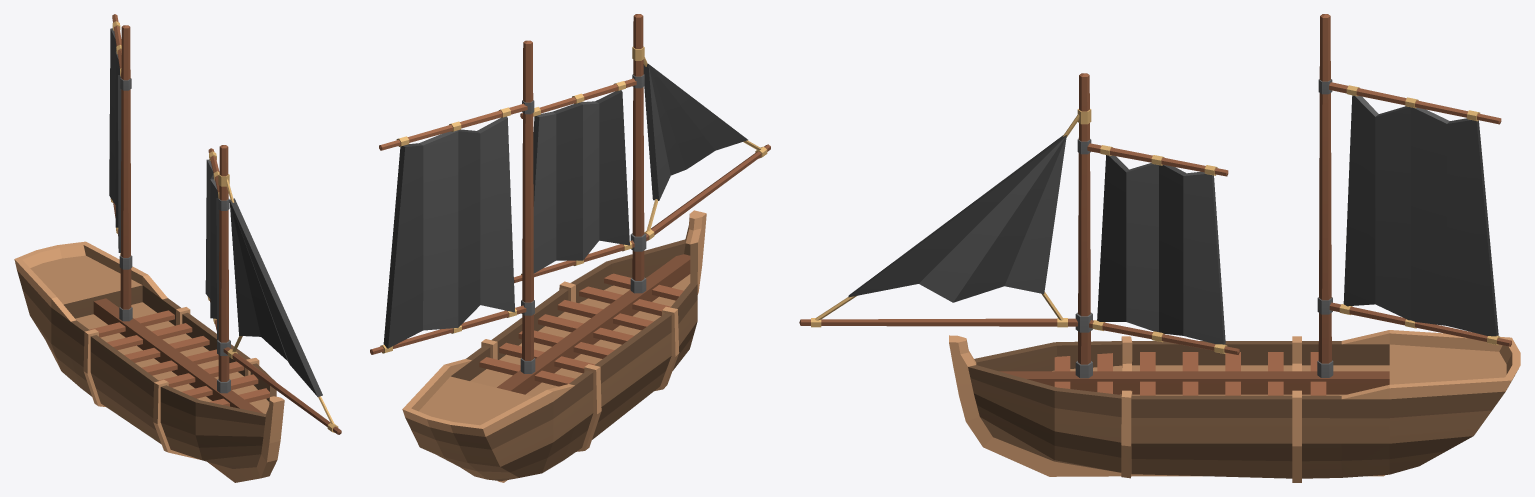
File: pirate-ship-small.glb
3 renders of one model, left to right at view 1: azimuth 30°, elevation 25°; view 2: azimuth 150°, elevation 25°; view 3: azimuth 270°, elevation 25°, orthographic. The views are drawn at different scales.
Visible parts, largest first — view 1: pirate ship small; view 2: pirate ship small; view 3: pirate ship small.
Part boxes in pixels (<box>): pirate ship small: <box>14,14,341,482</box>; pirate ship small: <box>370,14,770,482</box>; pirate ship small: <box>799,14,1520,482</box>.
Size of the model in its own units: 5.14 by 15.69 by 22.26.
1 material, 1 textured.
